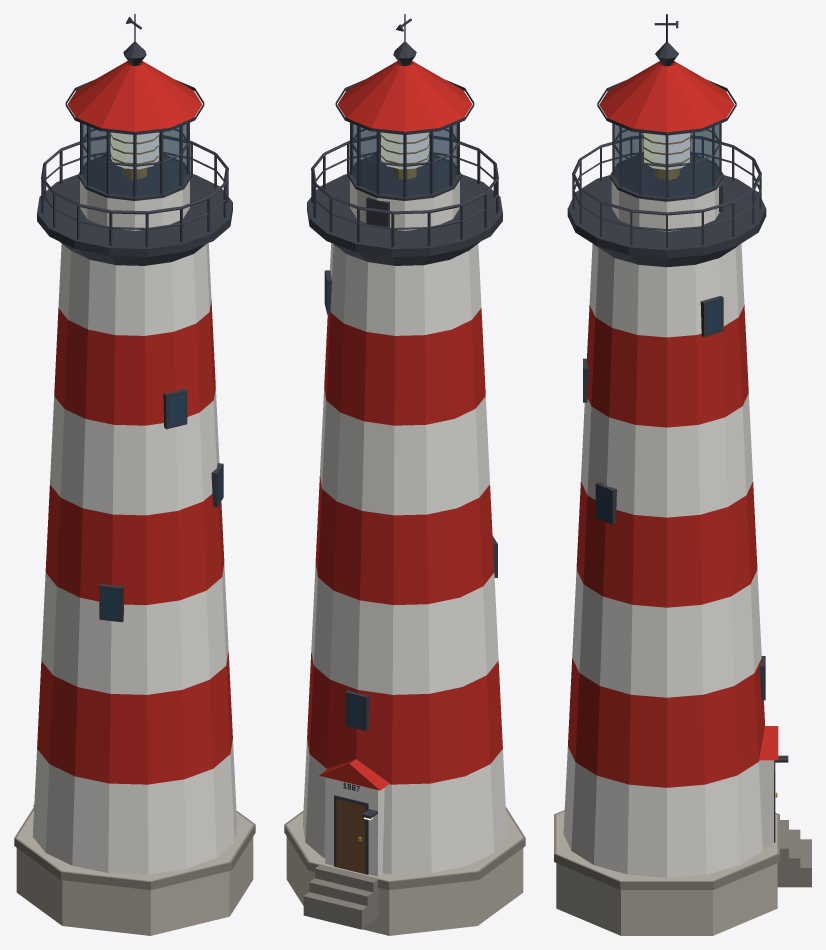
File: lighthouse.glb
3 renders of one model, left to right at view 1: azimuth 30°, elevation 25°; view 2: azimuth 150°, elevation 25°; view 3: azimuth 270°, elevation 25°, orthographic.
Visible parts, largest first — view 1: Building, Building_Detail, Building_Glass; view 2: Building, Building_Detail; view 3: Building, Building_Detail, Building_Glass.
Boxes of the visible parts, bbox=[...] form: Building: bbox=[14, 42, 255, 935]; Building_Detail: bbox=[41, 14, 228, 246]; Building_Glass: bbox=[102, 394, 222, 618]; Building: bbox=[284, 42, 525, 935]; Building_Detail: bbox=[311, 14, 498, 841]; Building: bbox=[554, 42, 811, 935]; Building_Detail: bbox=[572, 14, 788, 797]; Building_Glass: bbox=[598, 301, 720, 520].
Size of the model in its own units: 6.33 by 27.05 by 7.22.
